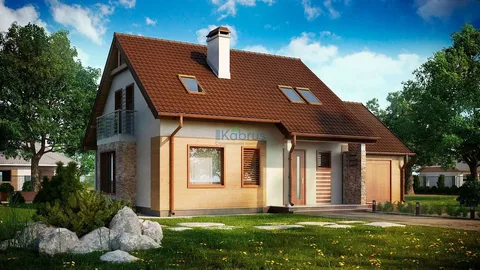private_hause: (93, 39, 405, 208)
